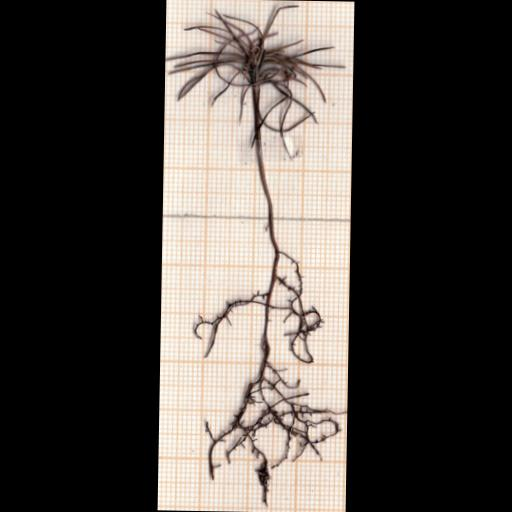flowerCedr: (171, 5, 340, 150)
rootCedr: (195, 249, 340, 503)
stemCedr: (252, 86, 281, 256)
